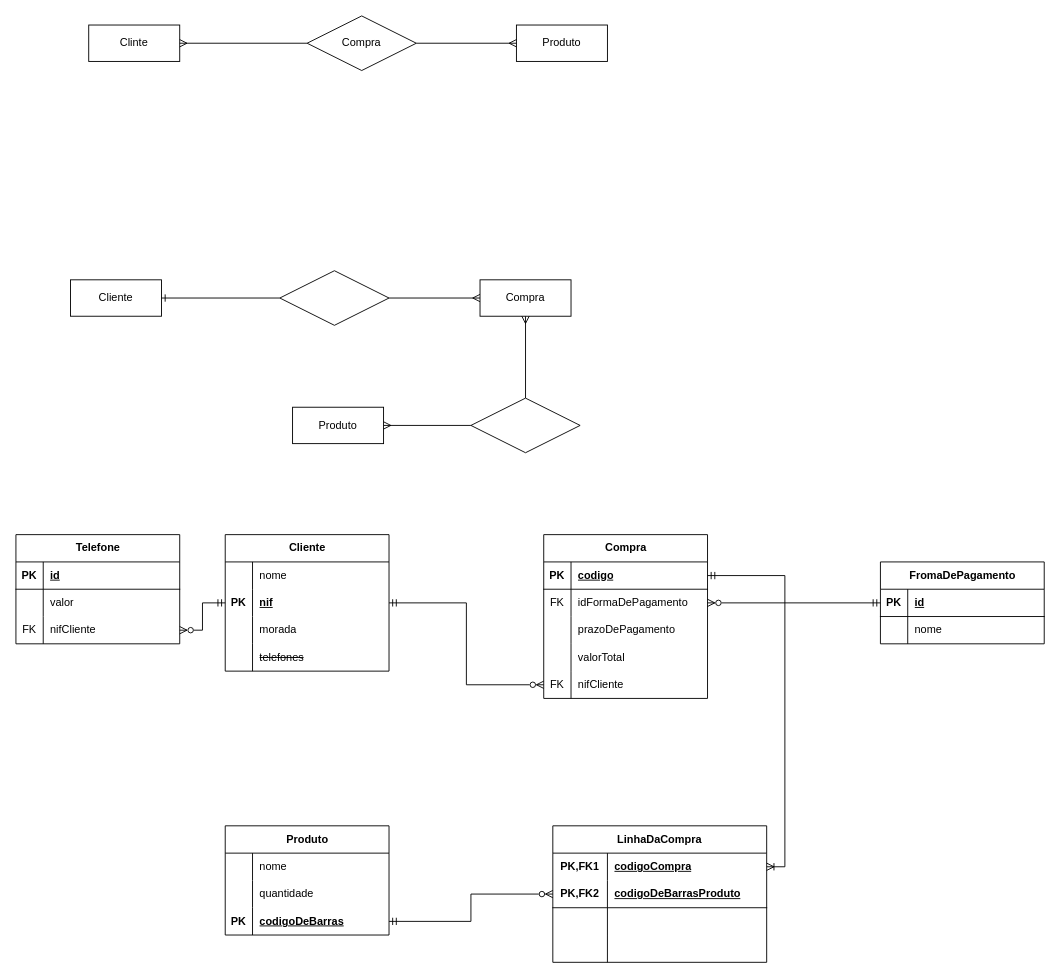
Image size: 1060x978. Some labels were removed from this diagram. The centre of each missing label's shape, as x and y in pixels:
"Realiza" goes at (x=334, y=297).
"Tem" goes at (x=525, y=425).
